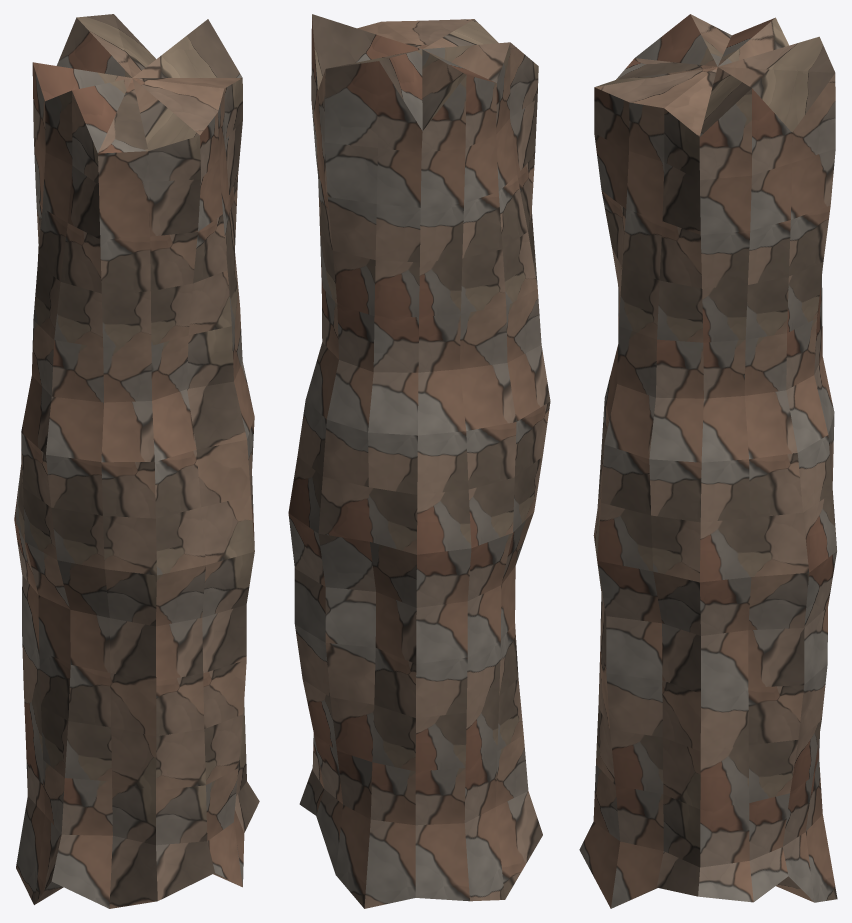
File: CanyonBeam_HalfB.gltf
3 views of the same model, side by side, from view 1: azimuth 30°, elevation 25°; view 2: azimuth 150°, elevation 25°; view 3: azimuth 270°, elevation 25° (orthographic). The views are drawn at different scales.
Visible parts, largest first — view 1: CanyonBeam_HalfB; view 2: CanyonBeam_HalfB; view 3: CanyonBeam_HalfB.
Part boxes in pixels (x1,y1,x2,y2): CanyonBeam_HalfB: [14, 14, 259, 908]; CanyonBeam_HalfB: [288, 14, 550, 908]; CanyonBeam_HalfB: [579, 14, 837, 908].
Size of the model in its own units: 8.5 by 30.32 by 8.19.
1 material, 1 textured.
